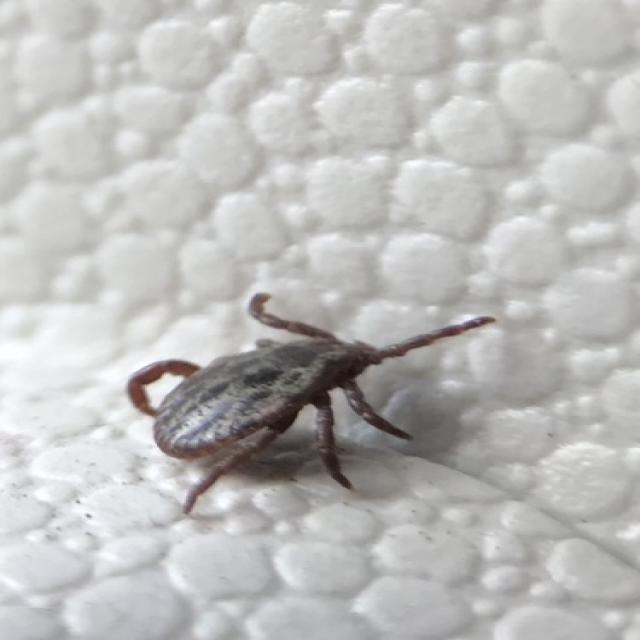Dermacentor Reticulatus-M: (125, 293, 497, 516)
